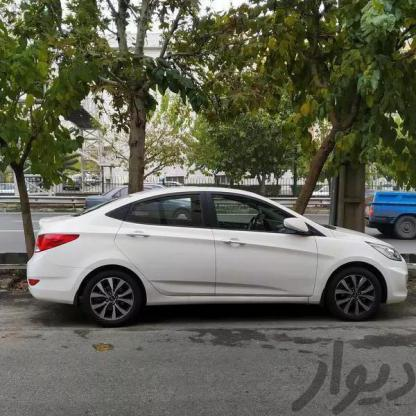Car: (32, 176, 403, 335), (352, 173, 416, 246)
